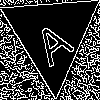A: (27, 10, 76, 68)
